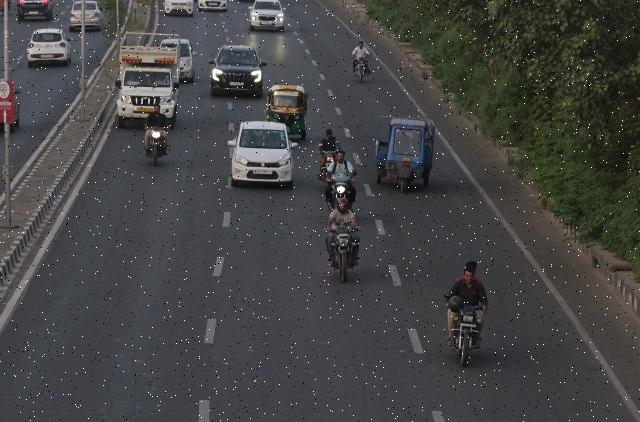With Helmet: (336, 198, 349, 212)
Without Helmet: (462, 266, 478, 288), (334, 148, 346, 162), (324, 128, 334, 140), (152, 104, 162, 114), (358, 40, 364, 50)
